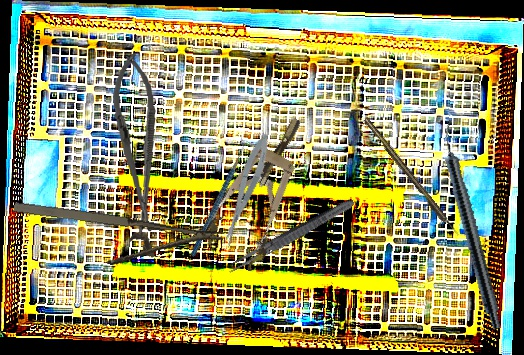Chopper: (157, 135, 278, 257)
Dressing Forceps: (225, 195, 357, 277)
Handpiece: (433, 119, 509, 331)
Hook Surgical: (362, 116, 461, 239)
Micro Scissor: (214, 131, 276, 250)
Needle Holder: (7, 196, 224, 283), (107, 51, 167, 232)
Speculum: (198, 105, 327, 275)
